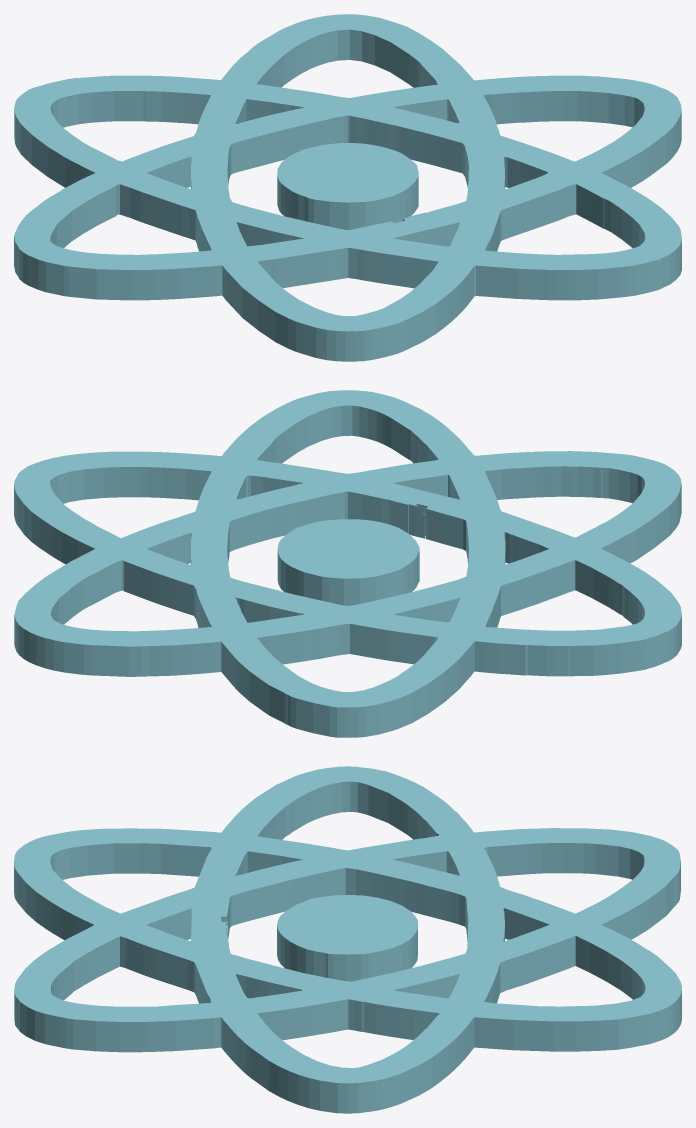
The model's file is react.glb.
3 views of the same model, one above another, from view 1: azimuth 30°, elevation 25°; view 2: azimuth 150°, elevation 25°; view 3: azimuth 270°, elevation 25° (orthographic).
Parts seen in each view (by area): view 1: Mesh_Mesh_head_geo.001_lambert2SG.001; view 2: Mesh_Mesh_head_geo.001_lambert2SG.001; view 3: Mesh_Mesh_head_geo.001_lambert2SG.001.
Boxes of the visible parts, x1=… form: Mesh_Mesh_head_geo.001_lambert2SG.001: x1=14, y1=14, x2=681, y2=361; Mesh_Mesh_head_geo.001_lambert2SG.001: x1=14, y1=390, x2=681, y2=737; Mesh_Mesh_head_geo.001_lambert2SG.001: x1=14, y1=766, x2=681, y2=1113.
Bounding box in the file's own units: 44.91 × 2 × 40.
